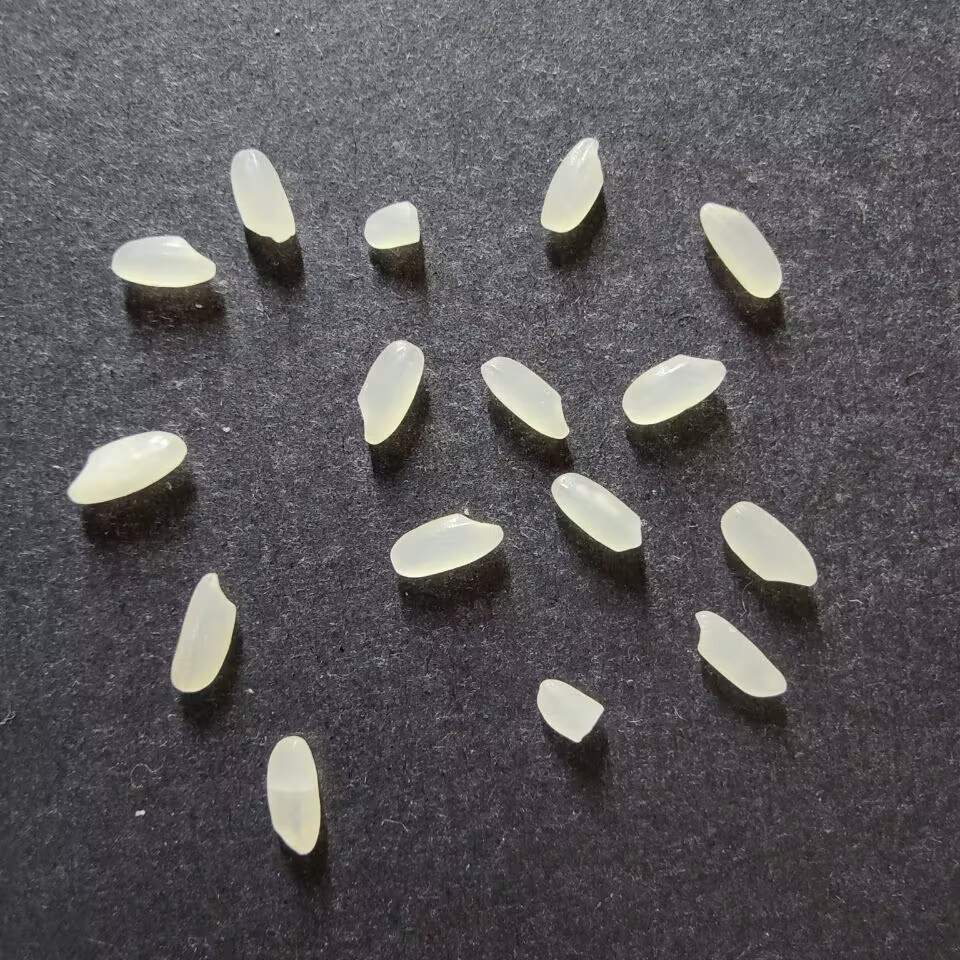broken: (537, 679, 604, 743), (363, 201, 420, 250)
rice: (67, 430, 188, 504), (720, 500, 818, 587), (694, 609, 788, 698), (170, 572, 237, 693), (698, 203, 783, 298), (479, 355, 570, 440), (550, 472, 643, 553), (389, 513, 504, 578), (621, 354, 726, 425), (356, 339, 425, 445), (265, 734, 321, 855), (230, 147, 295, 243), (539, 137, 604, 233), (111, 235, 216, 287)
